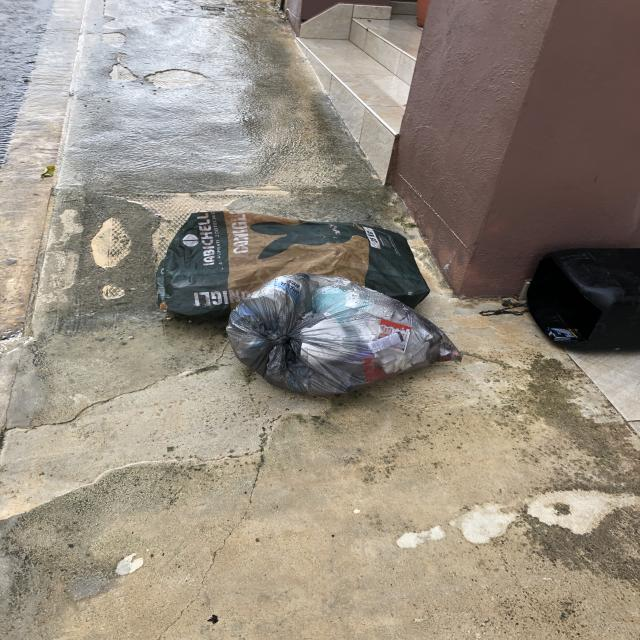Mixed Waste -Black Bag-: (228, 274, 465, 398)
Other: (160, 213, 431, 316)
